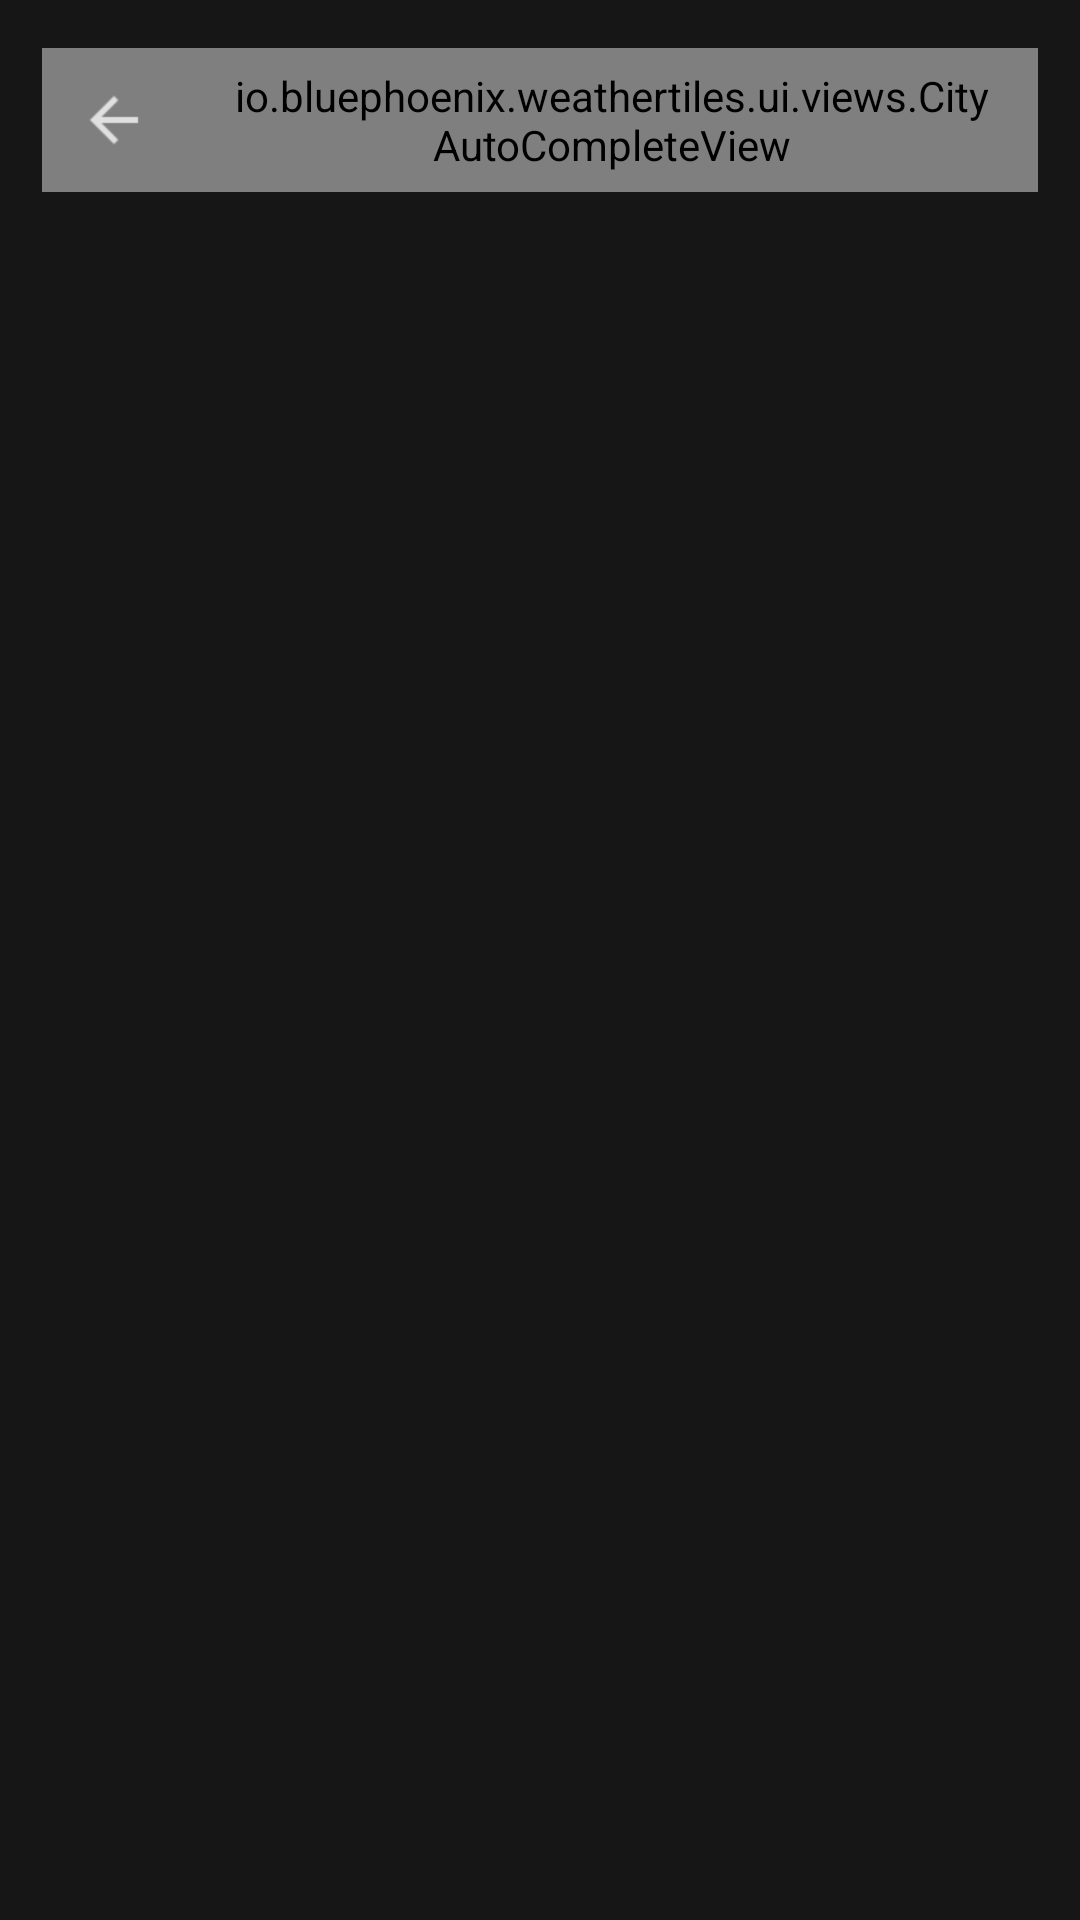

Icon bounding boxes for this 1080px x 1920px phone screenshot, format (x1, y1, x2, y2):
Go Back: (42, 48, 186, 192)
